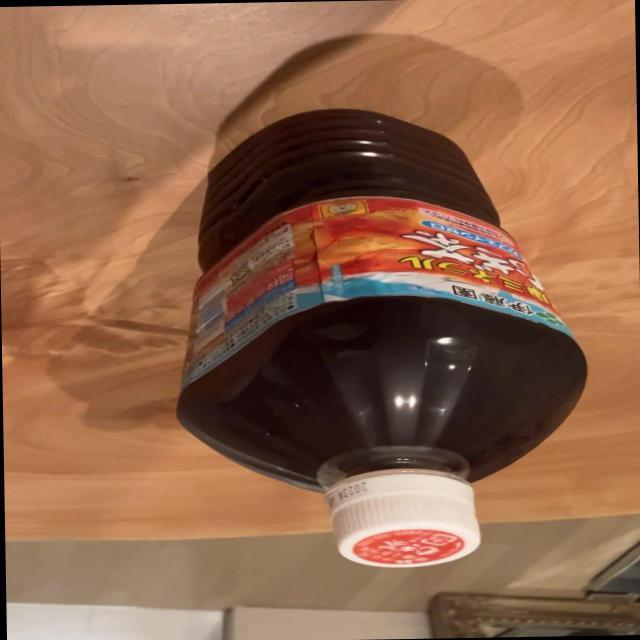good: (168, 101, 596, 574)
